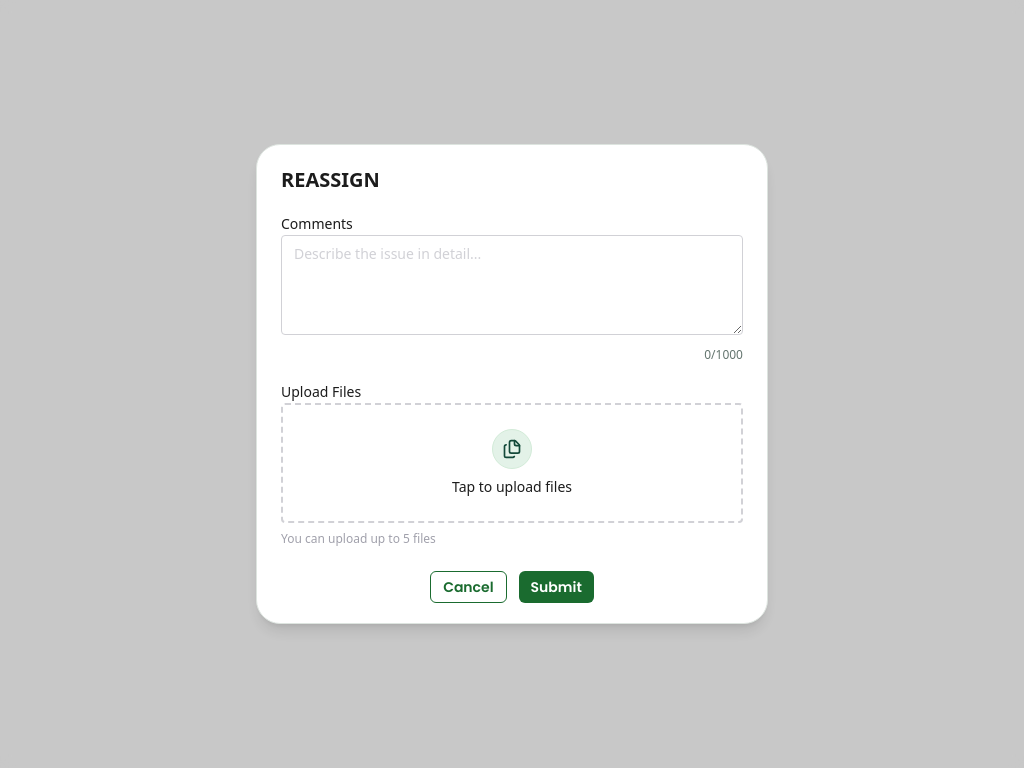
Test: ComplaintActionDialog › submission outcome › shows the backend's error message when the response has no IncidentWrappers
Click the button "Submit".
click(556, 587)  # box [519,571,594,603]
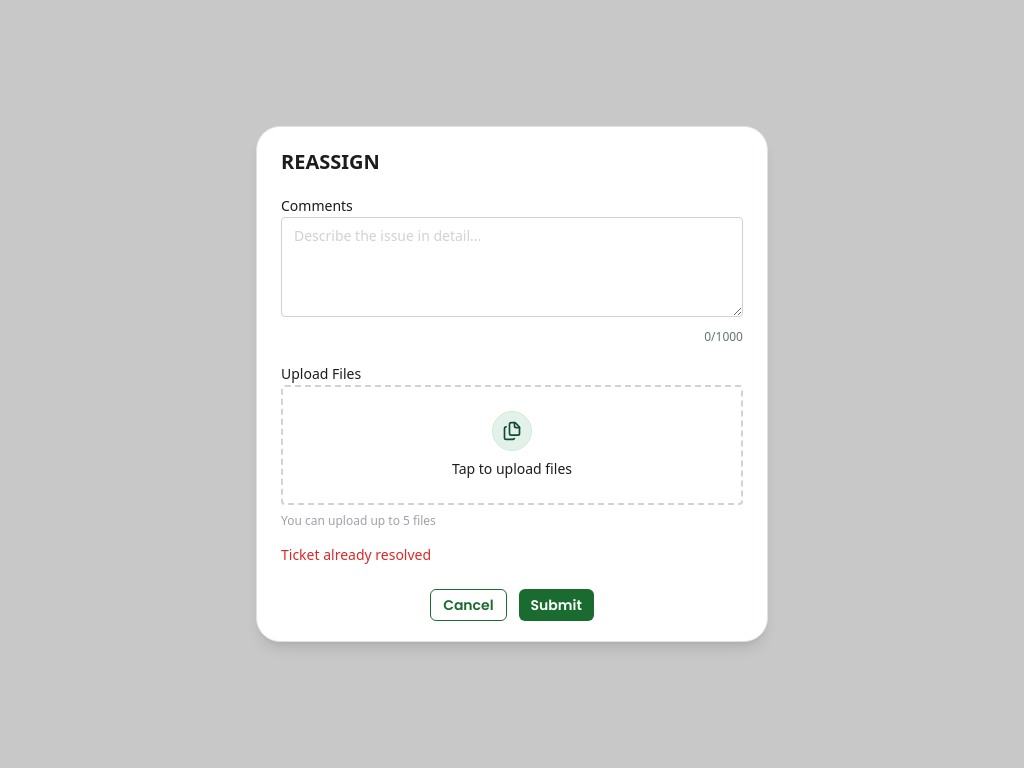
Now the text "Ticket already resolved" is shown, box [281,545,431,564]
